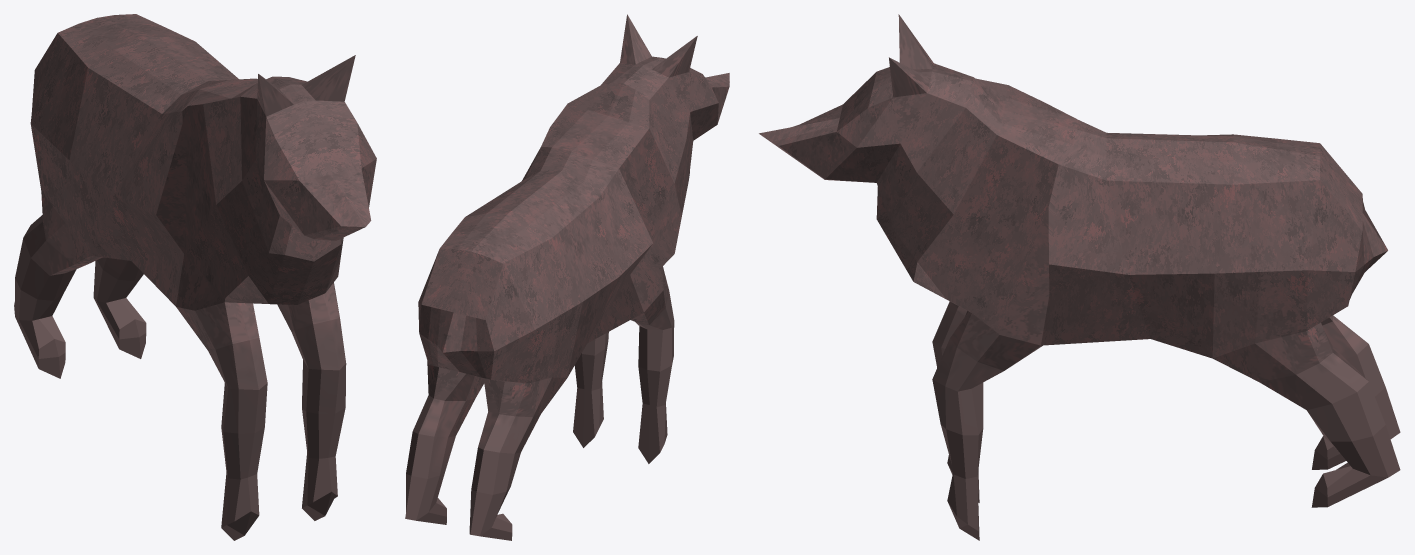
File: piesblendtex_000006.obj
The picture shows the model from 3 angles, left to right: view 1: azimuth 30°, elevation 25°; view 2: azimuth 150°, elevation 25°; view 3: azimuth 270°, elevation 25°; orthographic projection. The views are drawn at different scales.
Parts seen in each view (by area): view 1: Cube; view 2: Cube; view 3: Cube.
Part boxes in pixels (bbox=[...]): Cube: bbox=[14, 14, 376, 540]; Cube: bbox=[405, 14, 729, 540]; Cube: bbox=[759, 14, 1400, 540].
Size of the model in its own units: 2.56 by 7.48 by 9.05.
